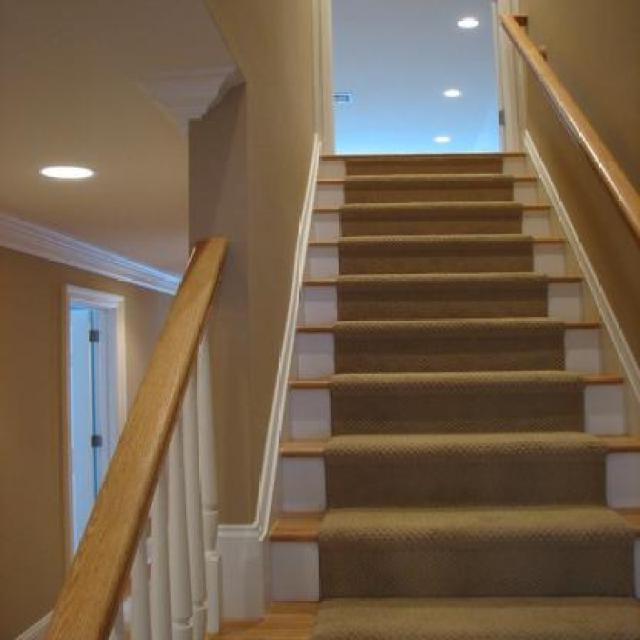stair: (205, 96, 640, 635)
